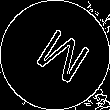M_SW: (22, 22, 88, 88)
